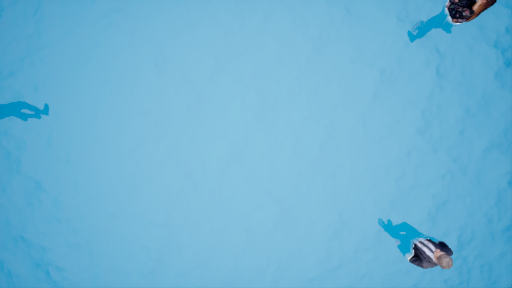person: (375, 212, 460, 275), (403, 1, 505, 44)
